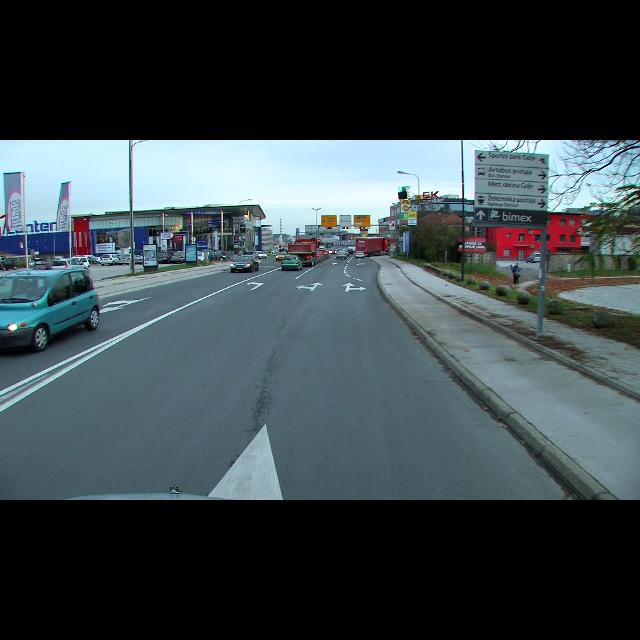Multi-inform: (474, 150, 548, 228)
